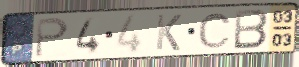4: (115, 12, 146, 56), (74, 17, 103, 55)
B: (232, 8, 270, 51)
C: (197, 12, 233, 50)
K: (154, 13, 184, 52)
P: (33, 16, 71, 59)
